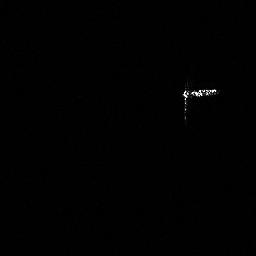ship: (178, 82, 223, 122)
